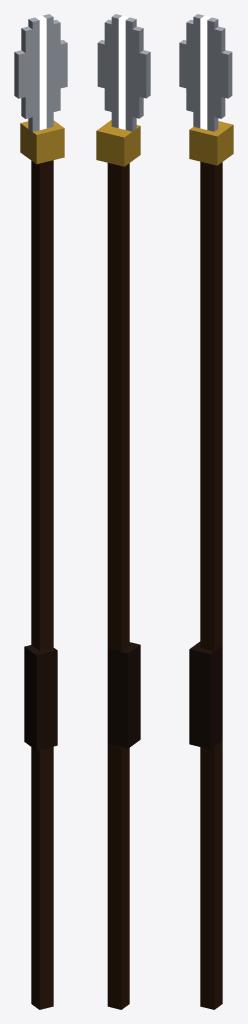
The model's file is saltglass_partisan.glb.
3 renders of one model, left to right at view 1: azimuth 30°, elevation 25°; view 2: azimuth 150°, elevation 25°; view 3: azimuth 330°, elevation 25°, orthographic.
Visible parts, largest first — view 1: saltglass_partisan; view 2: saltglass_partisan; view 3: saltglass_partisan.
Boxes of the visible parts, x1,y1,x2,y2 form: saltglass_partisan: (14,14,67,1009); saltglass_partisan: (96,14,150,1009); saltglass_partisan: (179,14,233,1009).
Size of the model in its own units: 0.105 by 2.02 by 0.06.
